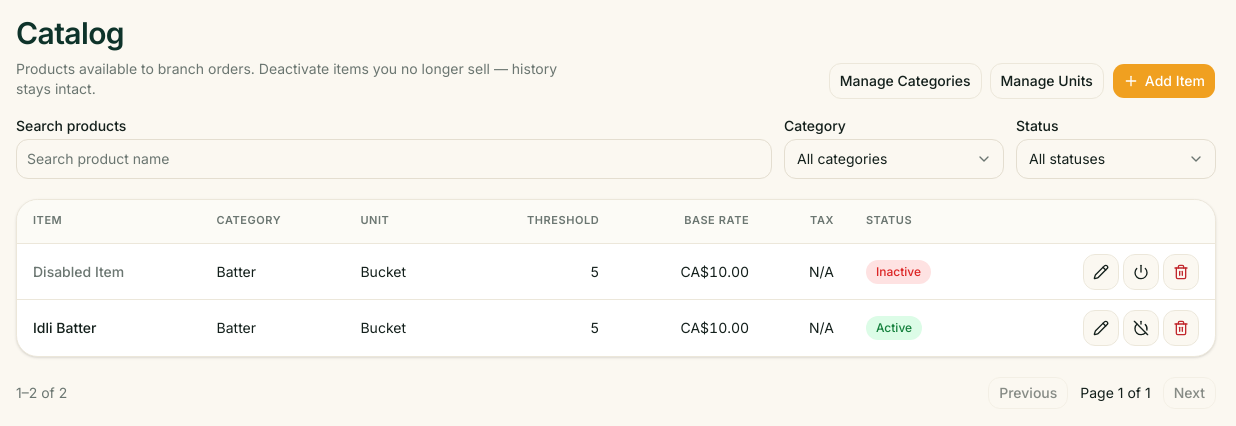
Test: catalog active filter excludes inactive products
The image size is (1236, 426).
Expected: the text "Disabled Item" is shown, [33,262,124,280]
Select "Active" in the dropdown labelled "Status" at (1116, 158), box [1016,138,1216,178]
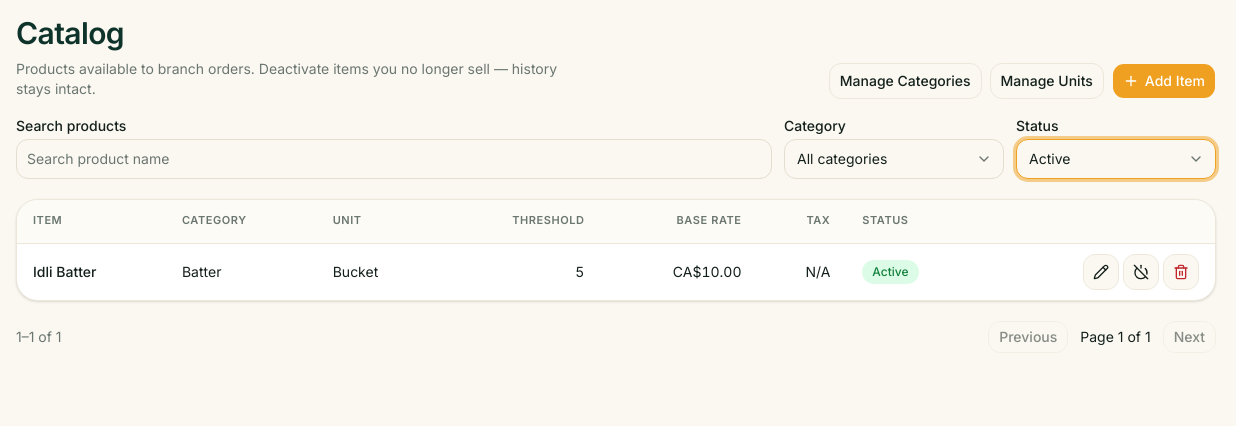
Expected: the text "Idli Batter" is shown, [33,263,96,280]
Expected: the text "Disabled Item" is gone
Select "Inactive" in the dropdown labelled "Status" at (1116, 158), box [1016,138,1216,178]
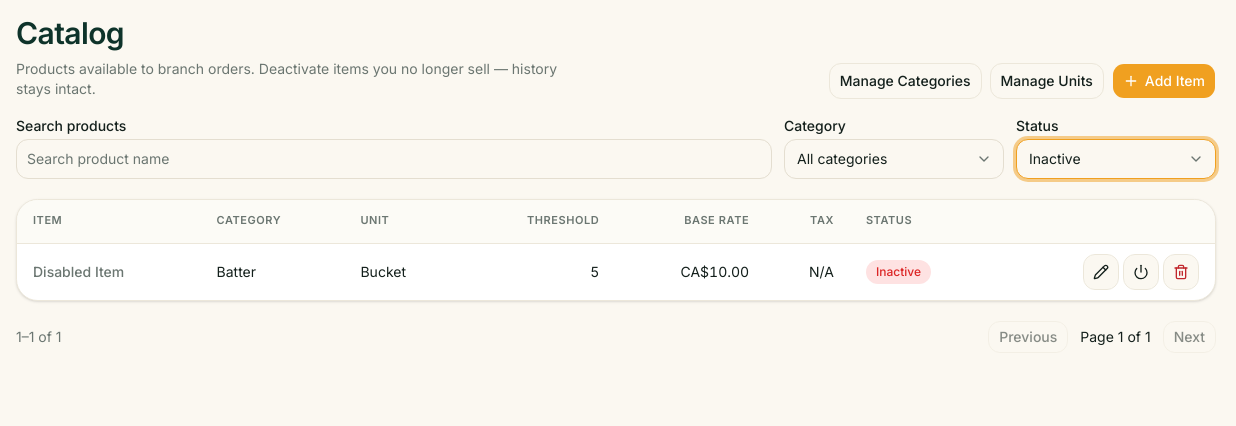
Expected: the text "Disabled Item" is shown, [33,263,124,280]
Expected: the text "Idli Batter" is gone
Select "All statuses" in the dropdown labelled "Status" at (1116, 158), box [1016,138,1216,178]
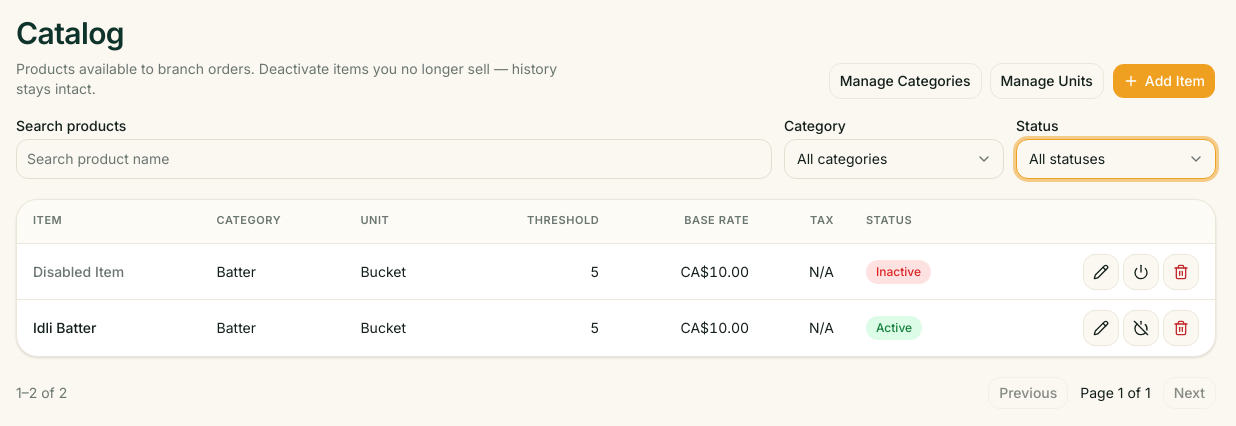
Expected: the text "Idli Batter" is shown, [33,319,96,336]
